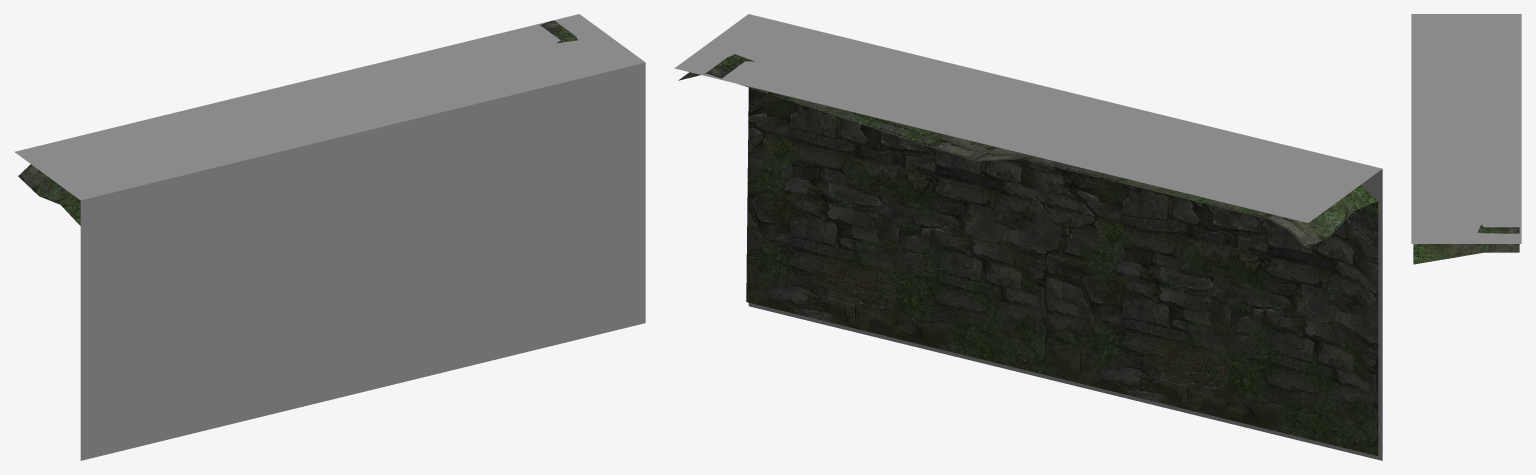
File: Scene_Object_ShiDun_7.FBX
3 renders of one model, left to right at view 1: azimuth 30°, elevation 25°; view 2: azimuth 150°, elevation 25°; view 3: azimuth 270°, elevation 25°, orthographic. The views are drawn at different scales.
Visible parts, largest first — view 1: Scene_Object_ShiDun_7_Xzm, Scene_Object_ShiDun_7; view 2: Scene_Object_ShiDun_7, Scene_Object_ShiDun_7_Xzm; view 3: Scene_Object_ShiDun_7_Xzm, Scene_Object_ShiDun_7.
Boxes of the visible parts, <box> form: Scene_Object_ShiDun_7_Xzm: <box>15,14,645,460</box>; Scene_Object_ShiDun_7: <box>18,20,577,225</box>; Scene_Object_ShiDun_7: <box>678,54,1378,455</box>; Scene_Object_ShiDun_7_Xzm: <box>674,14,1382,460</box>; Scene_Object_ShiDun_7_Xzm: <box>1411,14,1521,243</box>; Scene_Object_ShiDun_7: <box>1413,224,1519,264</box>.
Size of the model in its own units: 697 by 308 by 141.
